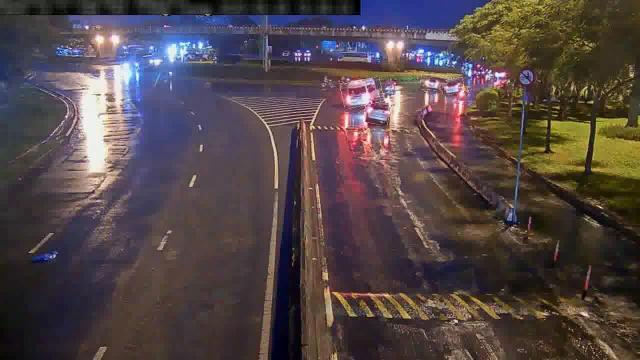Bus: (341, 79, 383, 108)
Car: (364, 99, 392, 125), (420, 74, 446, 90), (441, 78, 464, 94)
